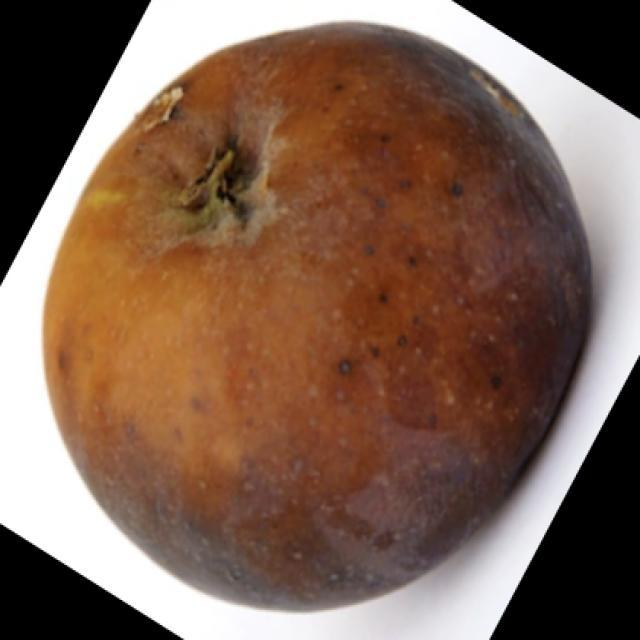Rotten: (40, 41, 595, 626)
